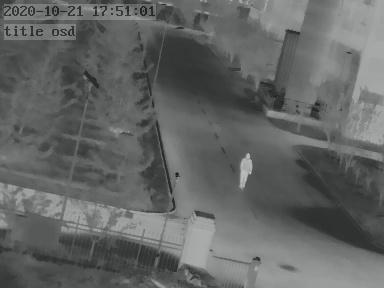person: (238, 151, 253, 188)
